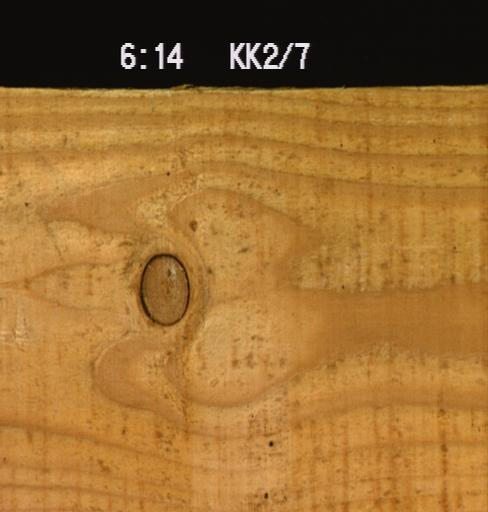dry_knot: (135, 250, 190, 326)
small_knot: (256, 484, 274, 503), (262, 433, 280, 451)
